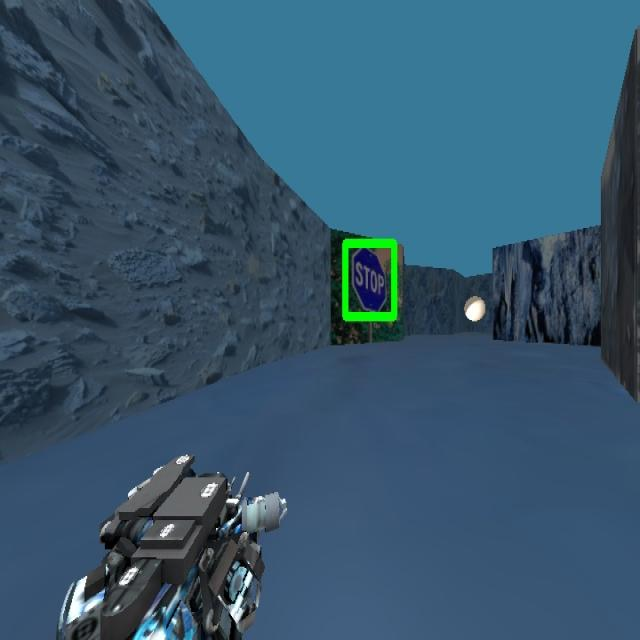Circle: (463, 295, 485, 321)
Stop_Sign: (341, 236, 398, 323)
